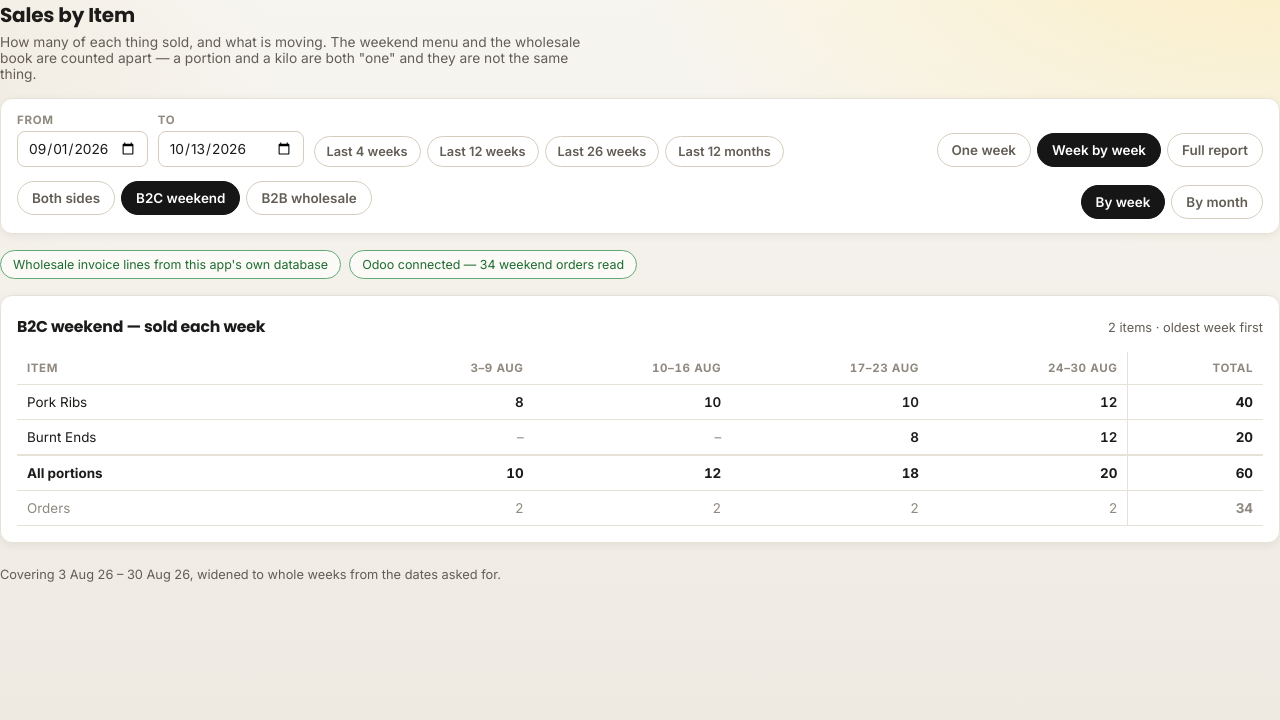
Scenario: adds up revenue across both sides but never the quantities
What coordinates should you click on to do the following:
click the button "Full report"
I would click on:
 (1215, 150)
Its box is x1=1167 y1=133 x2=1263 y2=167.
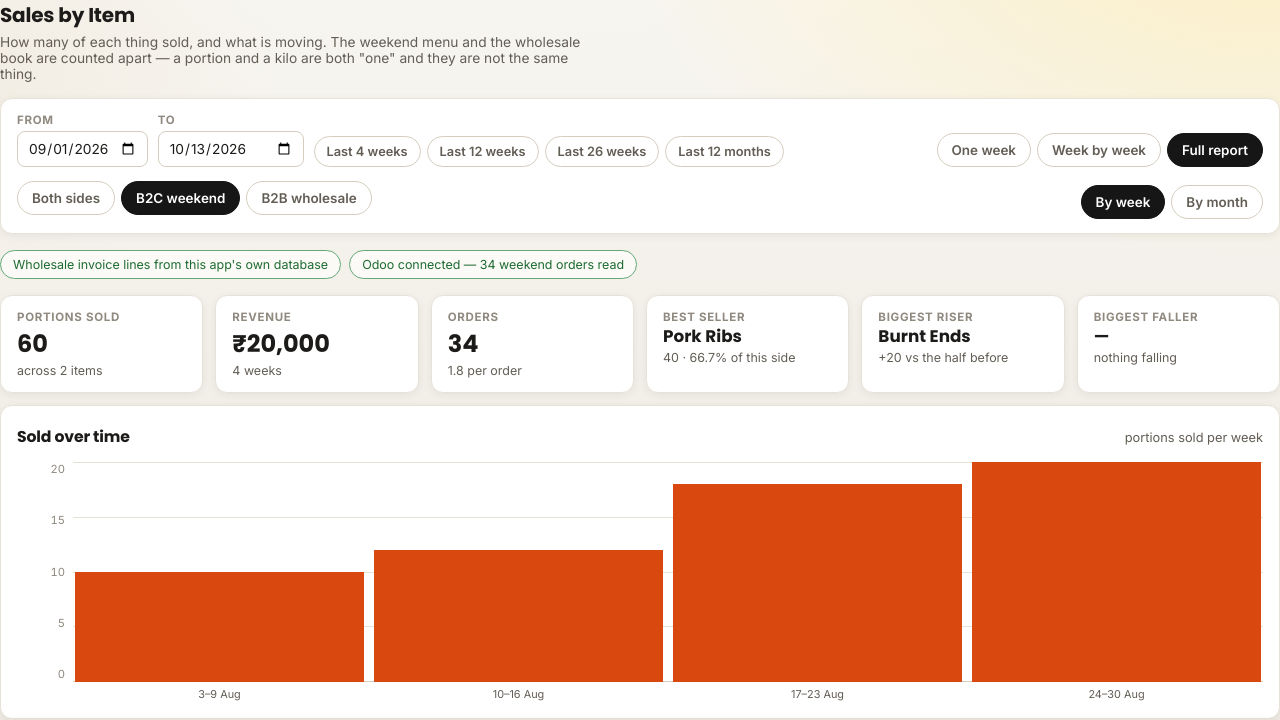
What coordinates should you click on to do the following:
click the button "Both sides"
I would click on:
 (66, 198)
Its box is x1=17 y1=181 x2=115 y2=215.
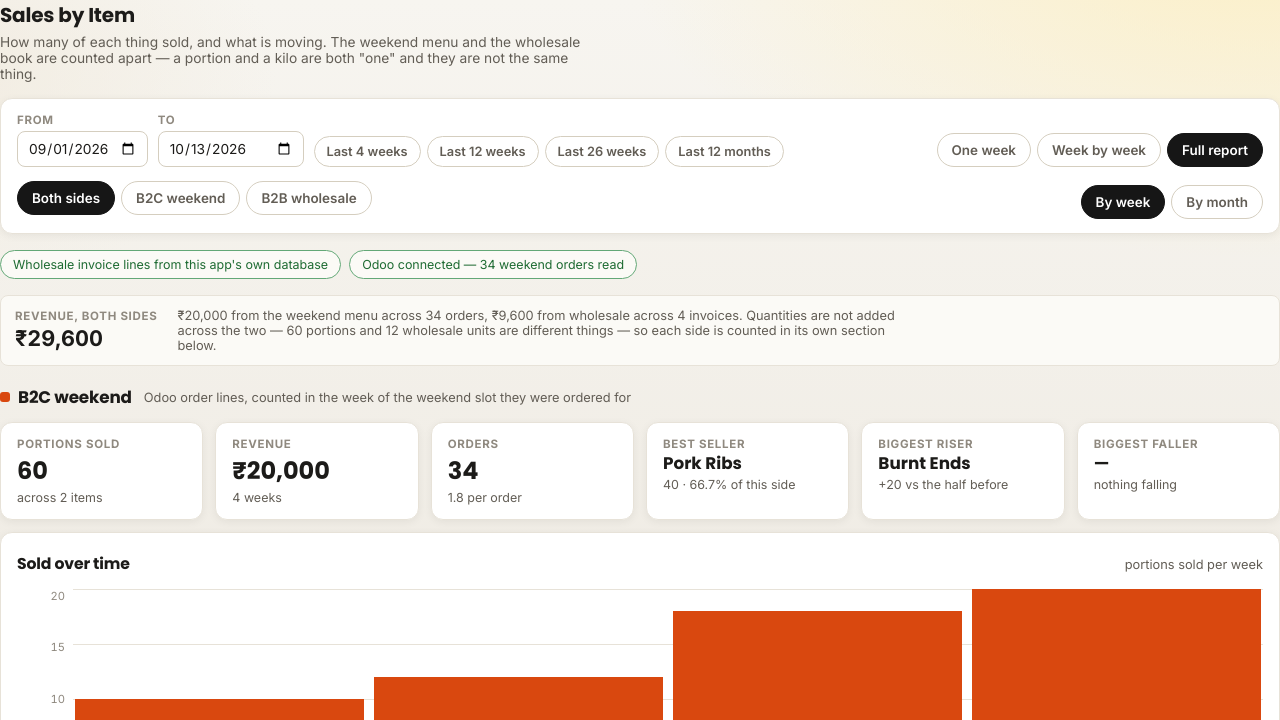
Check: the text "Revenue, both sides" is shown, box x1=15 y1=309 x2=158 y2=323
Check: the text "₹29,600" is shown, box x1=15 y1=325 x2=103 y2=351
Check: the text "60 portions and 12 wholesale units are different things" is shown, box x1=178 y1=308 x2=904 y2=353
